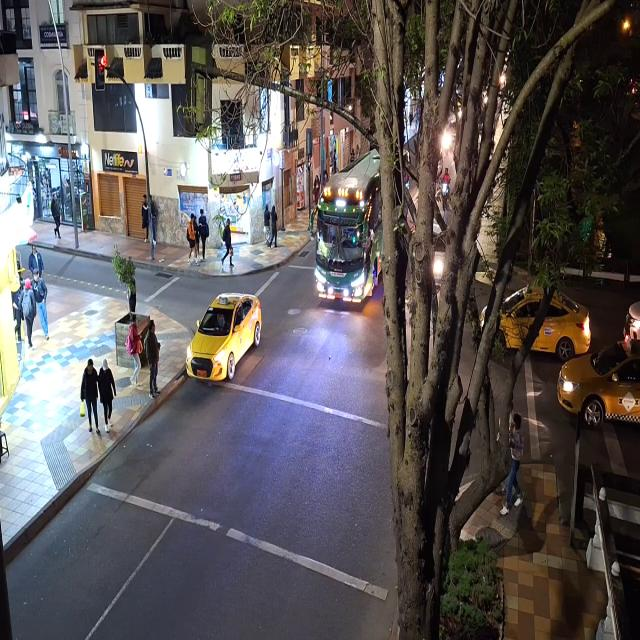BUS: (315, 152, 382, 304)
SED: (483, 284, 593, 353), (556, 343, 638, 422), (186, 296, 256, 382)
